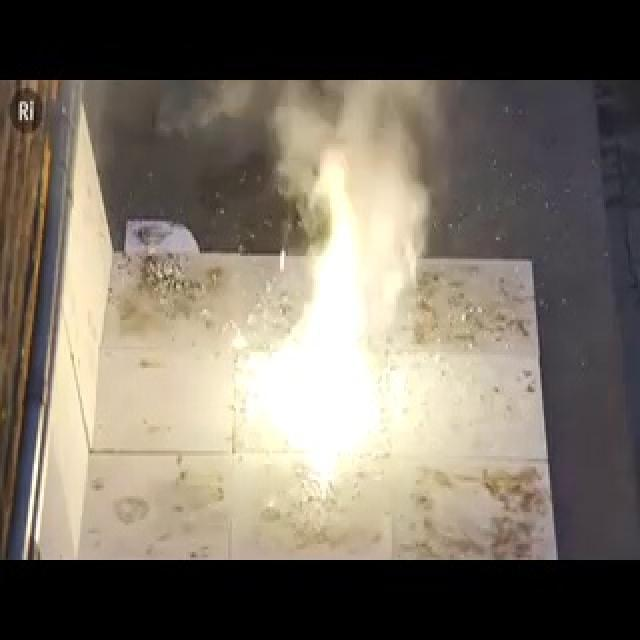fire: (244, 190, 394, 480)
